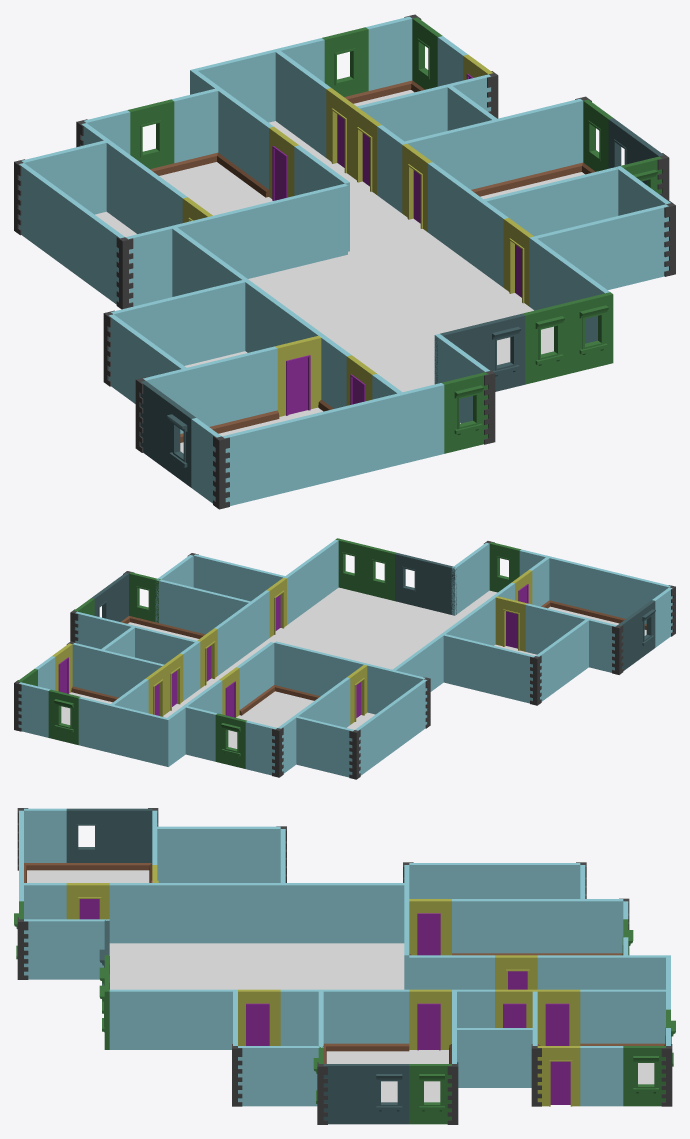
File: Office Floor Plan.fbx
3 views of the same model, one above another, from view 1: azimuth 30°, elevation 25°; view 2: azimuth 150°, elevation 25°; view 3: azimuth 270°, elevation 25° (orthographic). The views are drawn at different scales.
Parts seen in each view (by area): view 1: Double_Wall_and_Window2, Double_Wall_and_Window3, Wall70, Wall84, Wall71, Wall68, Wall69, Wall23, Wall24, Wall18, Wall42, Wall72 (+103 smaller); view 2: Double_Wall_and_Window3, Double_Wall_and_Window2, Wall92, Wall83, Wall90, Wall33, Wall89, Wall84, Wall47, Wall96, Wall31, Wall82 (+99 smaller); view 3: Double_Wall_and_Window1, Double_Wall_and_Window2, Wall61, Wall98, Wall60, Wall53, Wall65, Wall64, Wall63, Wall62, Wall52, Wall59 (+81 smaller).
Boxes of the visible parts, x1,y1,x2,y2 form: Double_Wall_and_Window2: (140,380,195,487); Double_Wall_and_Window3: (434,313,525,391); Wall70: (310,404,356,485); Wall84: (199,280,245,361); Wall71: (266,415,312,496); Wall68: (398,383,444,464); Wall69: (354,393,400,474); Wall23: (301,183,347,265); Wall24: (257,194,303,275); Wall18: (622,204,668,285); Wall42: (125,226,172,306); Wall72: (222,425,268,505); Double_Wall_and_Window3: (395,553,456,615); Double_Wall_and_Window2: (618,600,655,670); Wall92: (138,711,170,766); Wall83: (473,641,504,696); Wall90: (108,704,139,759); Wall33: (185,706,217,761); Wall89: (78,697,110,752); Wall84: (443,634,475,689); Wall47: (322,722,353,777); Wall96: (18,682,50,737); Wall31: (245,720,276,775); Wall82: (503,648,534,703); Double_Wall_and_Window1: (323,1064,409,1124); Double_Wall_and_Window2: (66,808,152,862); Wall61: (280,883,323,943); Wall98: (580,1046,623,1106); Wall60: (323,883,366,943); Wall53: (109,989,152,1049); Wall65: (109,883,152,943); Wall64: (152,883,194,943); Wall63: (195,883,237,943); Wall62: (238,883,280,943); Wall52: (152,989,194,1049); Wall59: (24,919,66,979).
Size of the model in its own units: 28.93 by 3 by 30.93.
